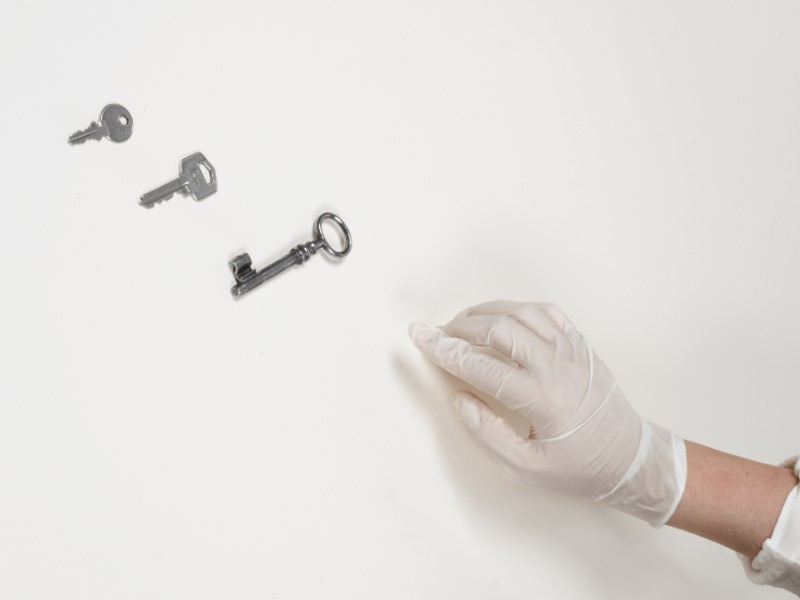key: (226, 208, 356, 305), (135, 147, 220, 209), (67, 96, 135, 147)
